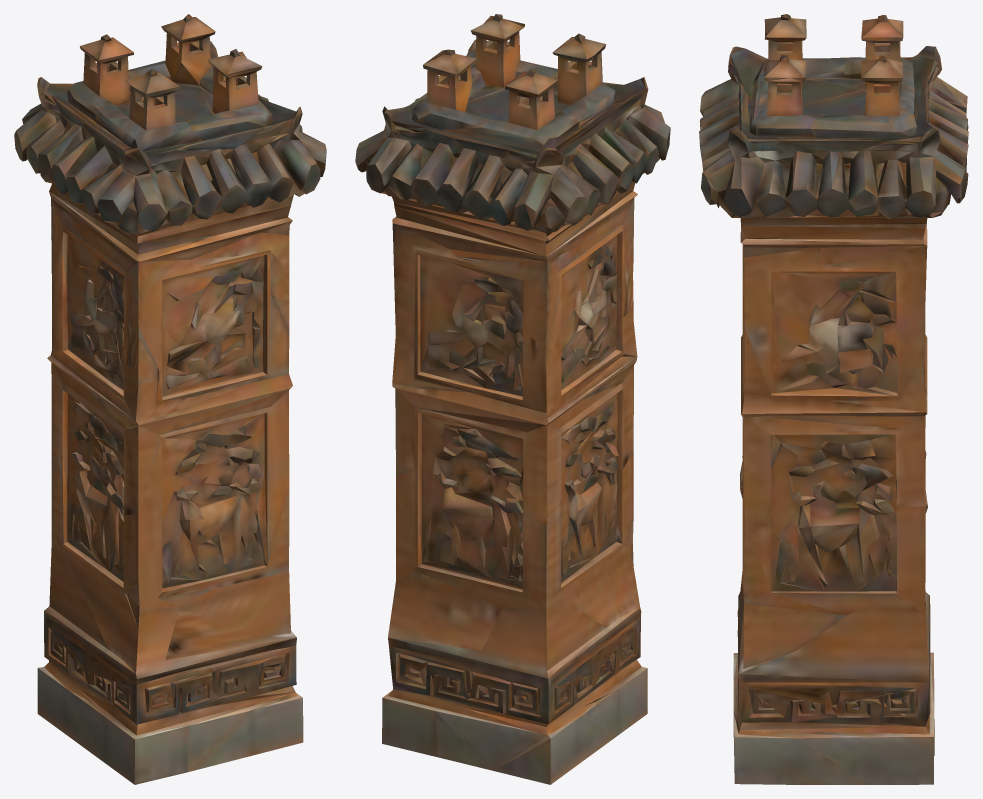
The model's file is chimney.glb.
3 views of the same model, side by side, from view 1: azimuth 30°, elevation 25°; view 2: azimuth 150°, elevation 25°; view 3: azimuth 270°, elevation 25° (orthographic). The views are drawn at different scales.
Bounding box in the file's own units: 0.6528 × 1.9 × 0.6553.
1 material, 1 textured.
